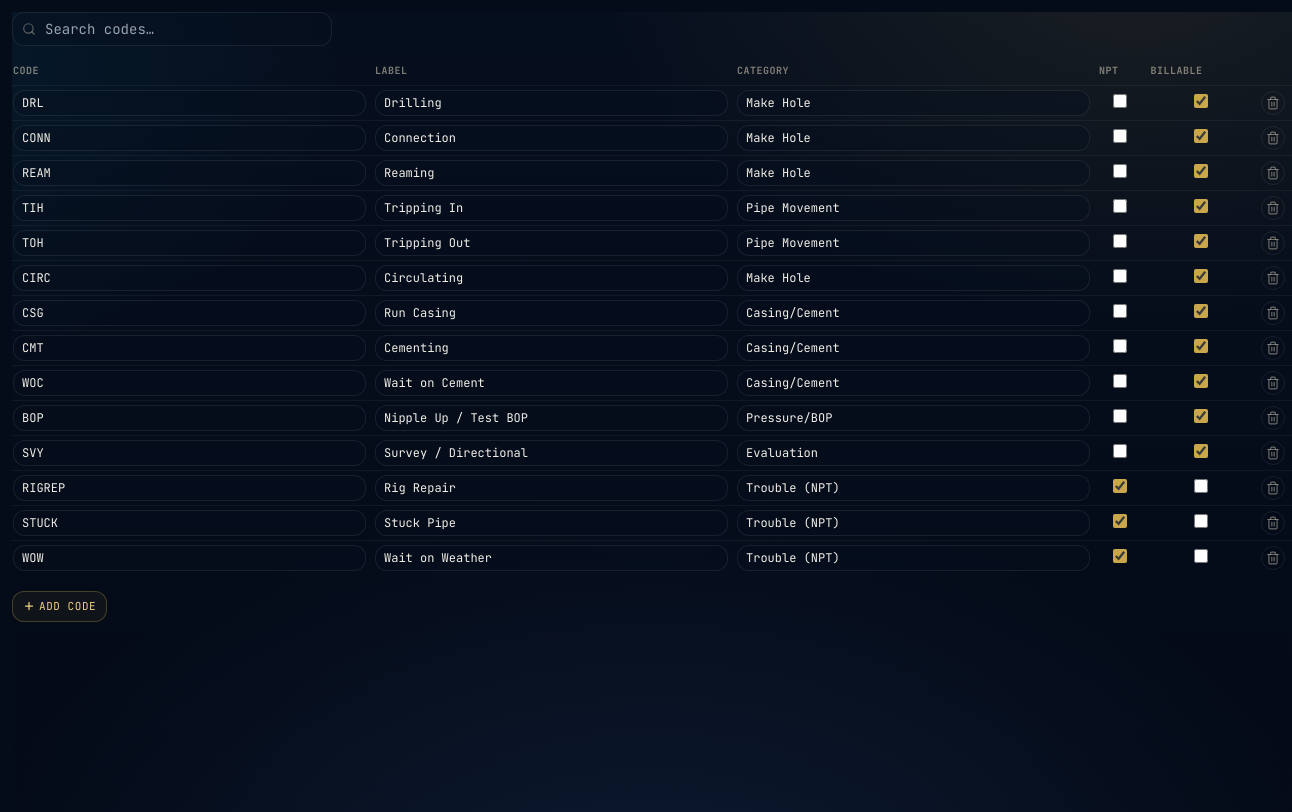
Test case: BankRegistry › filters by search
This screenshot has width=1292, height=812.
Type "STUCK" into the field labelled "Search codes…" at (172, 29), box x1=12 y1=12 x2=332 y2=46
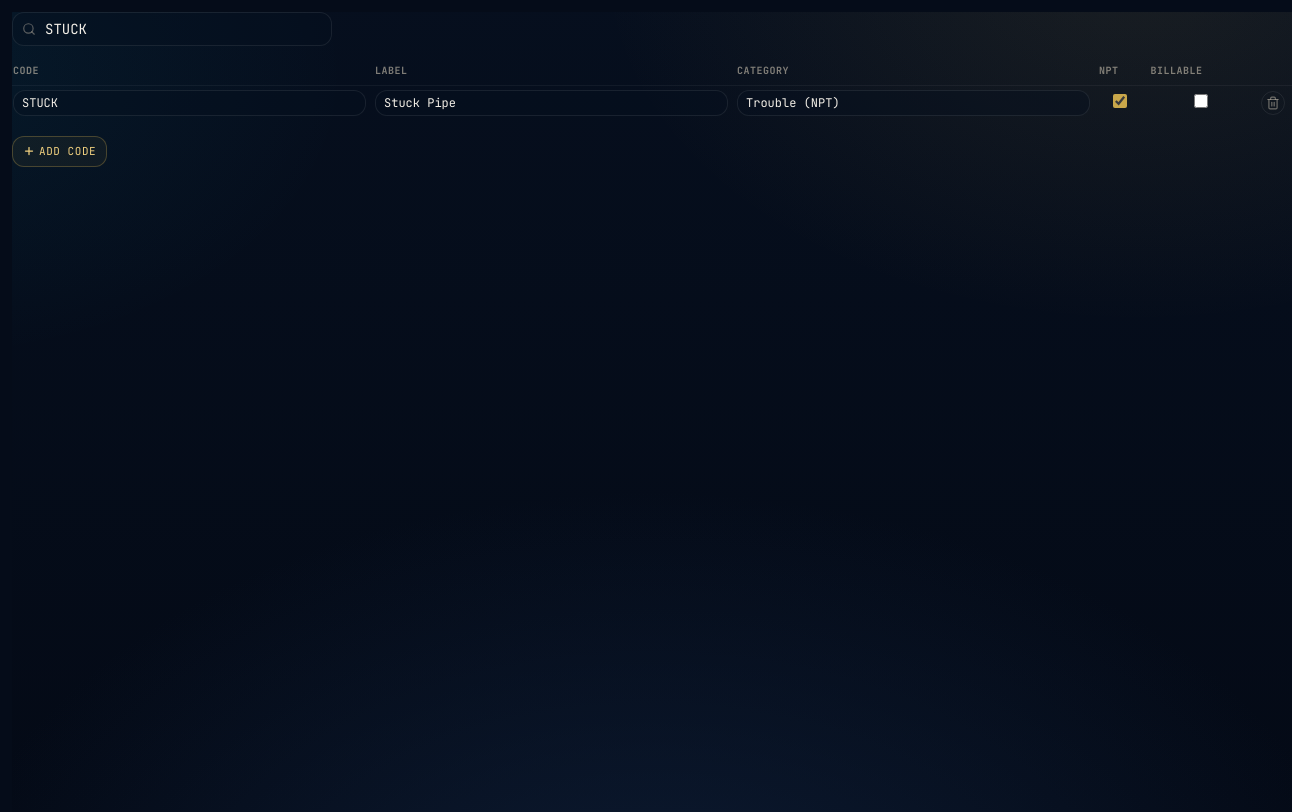
Expected: the number of rows with test id "bank-code-row" is 1, x1=12 y1=86 x2=1291 y2=120
